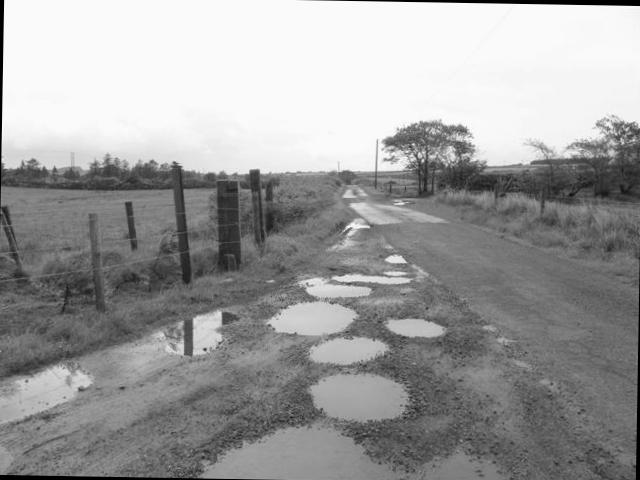Pothole: (195, 414, 502, 480), (0, 354, 104, 476), (290, 366, 426, 445), (148, 306, 244, 371), (262, 291, 361, 347), (303, 262, 414, 302), (300, 330, 396, 371), (380, 310, 451, 344), (376, 248, 420, 267)
